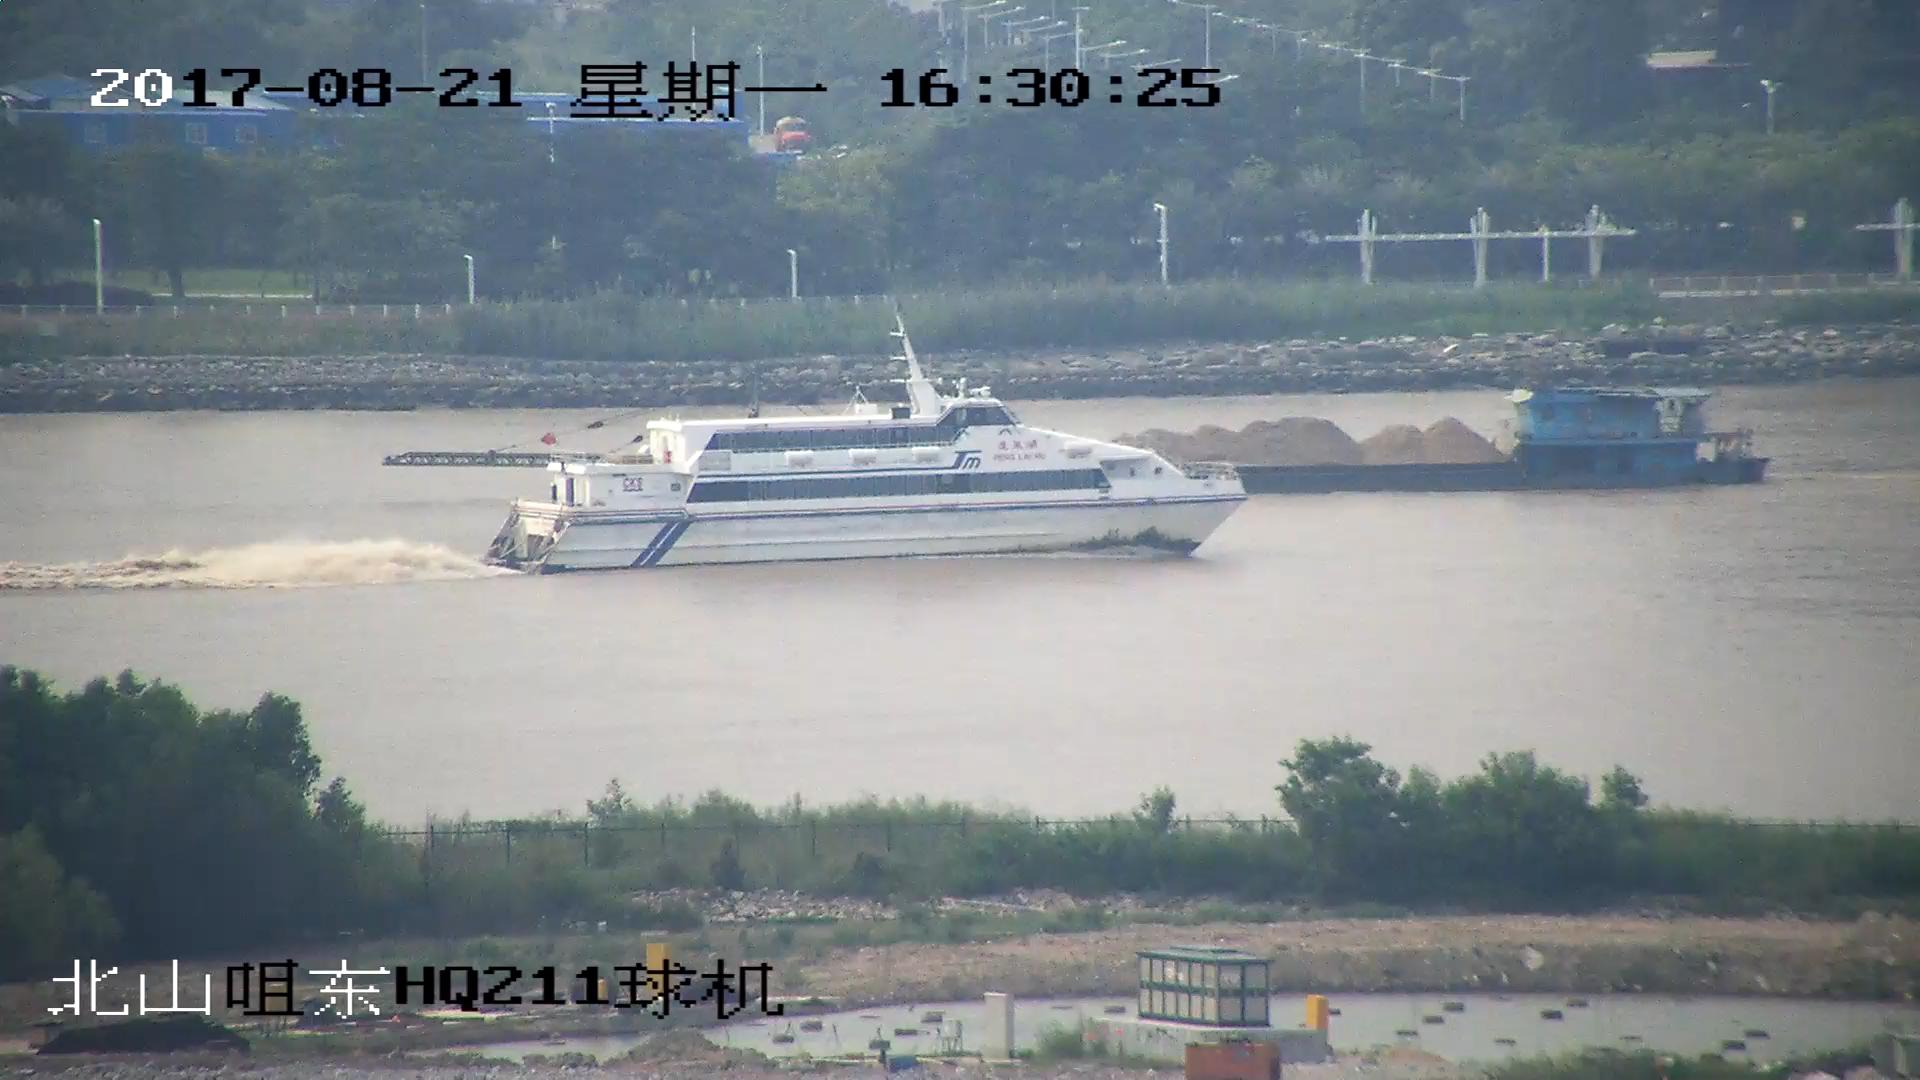ore carrier: (384, 384, 1774, 490)
passenger ship: (484, 329, 1251, 571)
